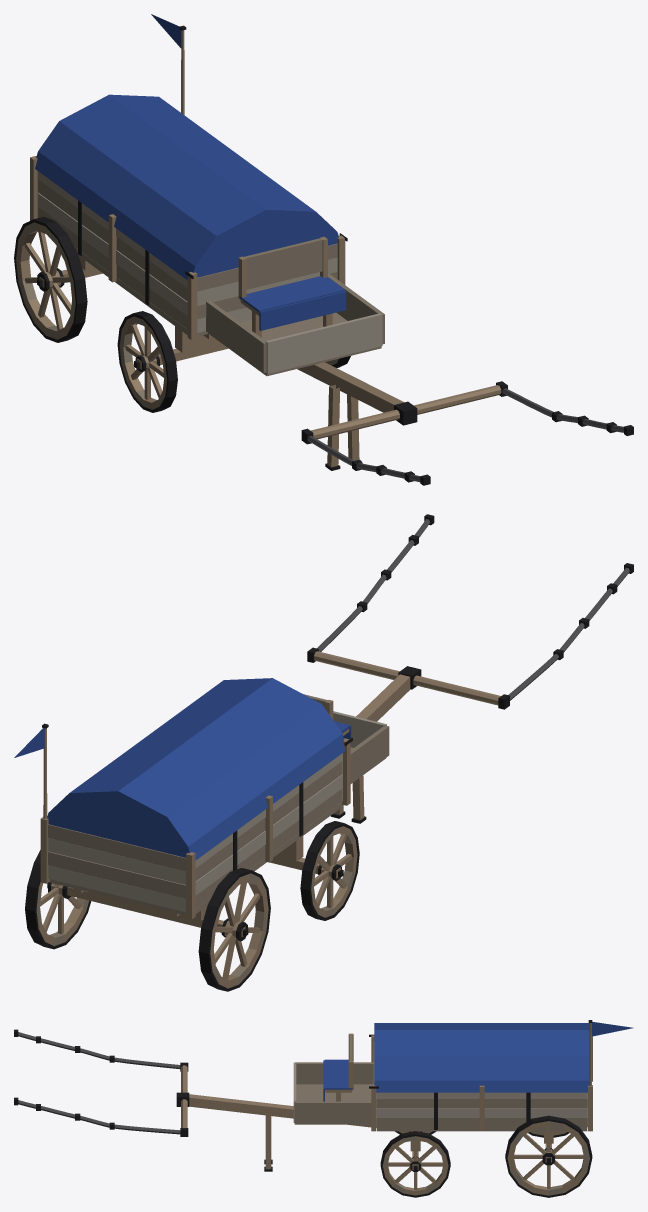
Rendered from karren_pferd.glb.
The picture shows the model from 3 angles, top to bottom: view 1: azimuth 30°, elevation 25°; view 2: azimuth 150°, elevation 25°; view 3: azimuth 270°, elevation 25°; orthographic projection. The views are drawn at different scales.
Parts seen in each view (by area): view 1: Plane, Karren, Rad_HR, Waage, Rad_VR, Decke, Stuetze; view 2: Plane, Karren, Rad_HR, Waage, Rad_VR, Rad_HL; view 3: Plane, Karren, Rad_HL, Rad_VL, Waage, Decke, Stuetze, Wimpel.
Part boxes in pixels (bbox=[...]): Plane: bbox=[35, 94, 338, 280]; Karren: bbox=[30, 25, 404, 412]; Rad_HR: bbox=[14, 217, 87, 342]; Waage: bbox=[301, 381, 633, 485]; Rad_VR: bbox=[117, 311, 177, 412]; Decke: bbox=[239, 276, 346, 330]; Stuetze: bbox=[325, 385, 361, 470]; Plane: bbox=[47, 678, 345, 860]; Karren: bbox=[40, 674, 410, 936]; Rad_HR: bbox=[198, 868, 270, 991]; Waage: bbox=[307, 514, 633, 709]; Rad_VR: bbox=[300, 821, 359, 920]; Rad_HL: bbox=[25, 850, 91, 949]; Plane: bbox=[374, 1023, 589, 1092]; Karren: bbox=[189, 1020, 592, 1170]; Rad_HL: bbox=[505, 1115, 592, 1197]; Rad_VL: bbox=[380, 1131, 450, 1197]; Waage: bbox=[14, 1029, 189, 1136]; Decke: bbox=[323, 1059, 352, 1101]; Stuetze: bbox=[264, 1113, 272, 1171]; Wimpel: bbox=[591, 1022, 633, 1036].
Bounding box in the file's own units: 2.38 × 2.68 × 8.85.
